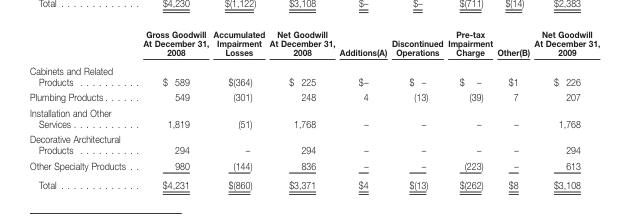table: (29, 28, 599, 189)
table column: (29, 28, 133, 189), (133, 28, 210, 189), (266, 28, 336, 189), (531, 28, 599, 189), (210, 28, 266, 189), (388, 28, 444, 189), (336, 28, 388, 189), (444, 28, 494, 189), (494, 28, 531, 189)
table column header: (29, 28, 599, 60)
table row: (29, 28, 599, 60), (29, 60, 599, 89), (29, 130, 599, 157), (29, 104, 599, 130), (29, 157, 599, 174), (29, 89, 599, 104), (29, 174, 599, 189)
